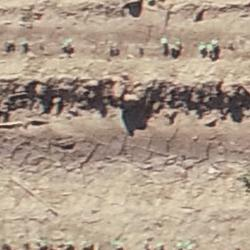cotton: (199, 41, 206, 49), (208, 43, 215, 50), (161, 36, 167, 44), (174, 41, 180, 47), (65, 37, 72, 42), (20, 38, 25, 45)
